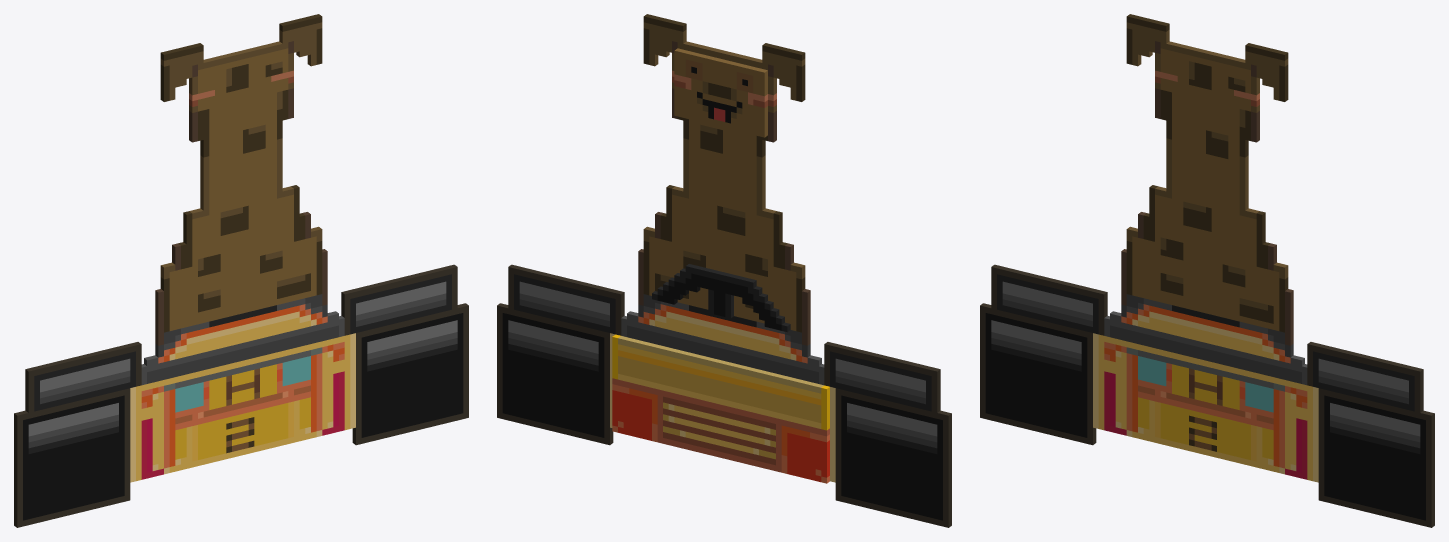
File: HYENA5_CONCEPT.obj
3 views of the same model, side by side, from view 1: azimuth 30°, elevation 25°; view 2: azimuth 150°, elevation 25°; view 3: azimuth 330°, elevation 25° (orthographic).
Size of the model in its own units: 80 by 74 by 2.
1 material, 1 textured.
